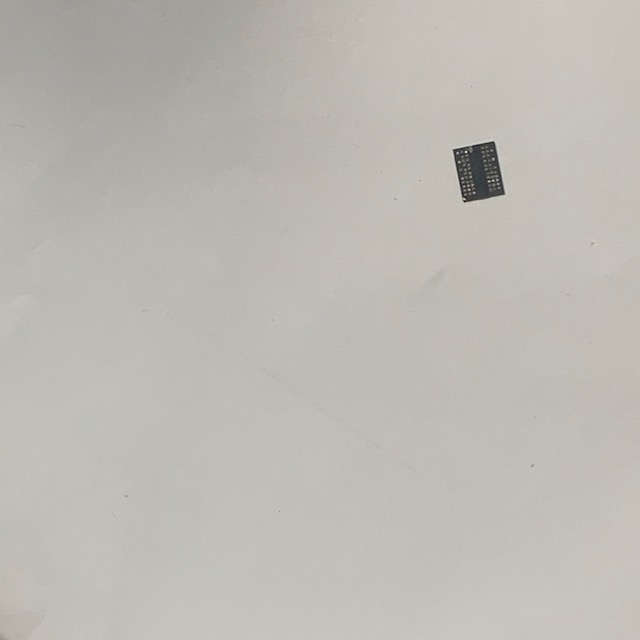IC: (450, 139, 507, 204)
